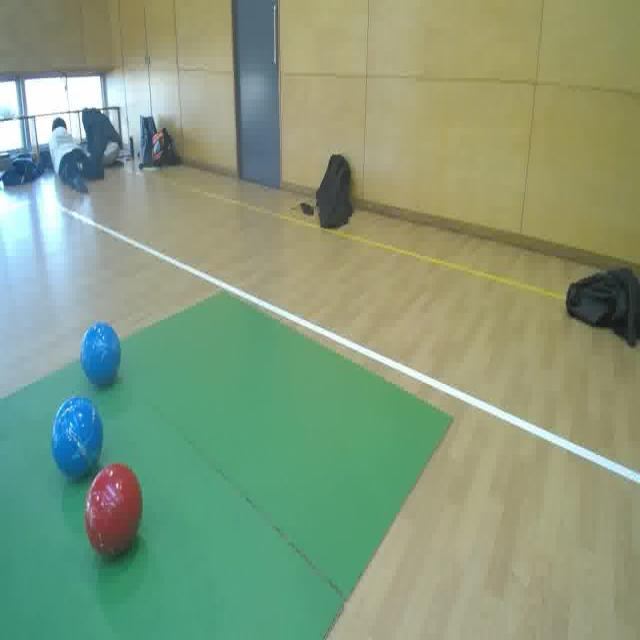blue_ball: (51, 396, 102, 486), (78, 322, 121, 388)
red_ball: (84, 459, 145, 562)
